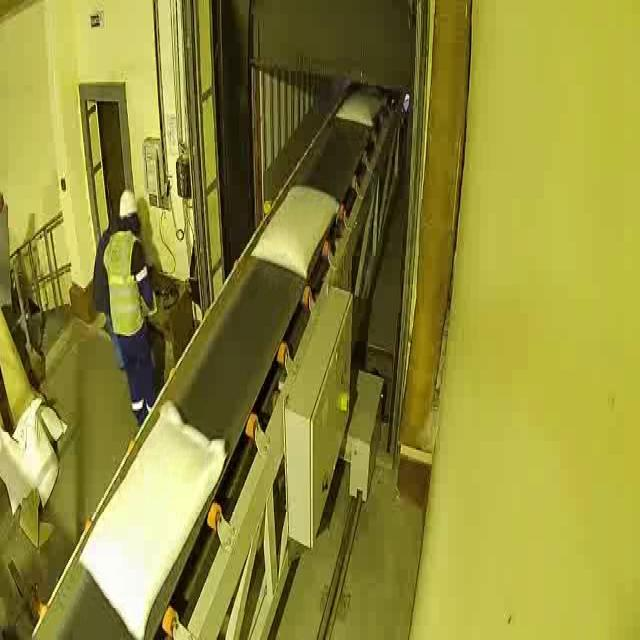bag: (77, 396, 228, 634), (250, 180, 340, 282), (338, 89, 390, 128)
